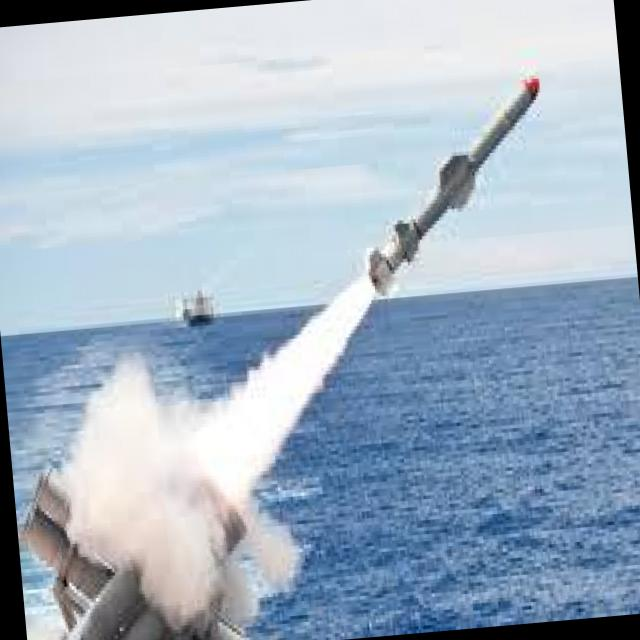rocket: (235, 75, 570, 432)
